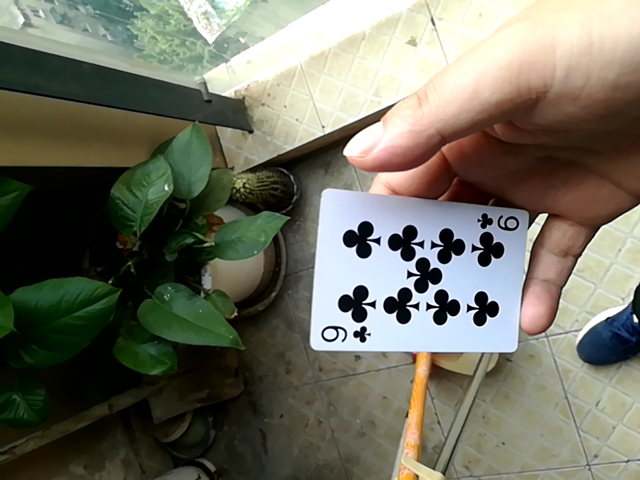mh 9: (315, 193, 538, 357)
